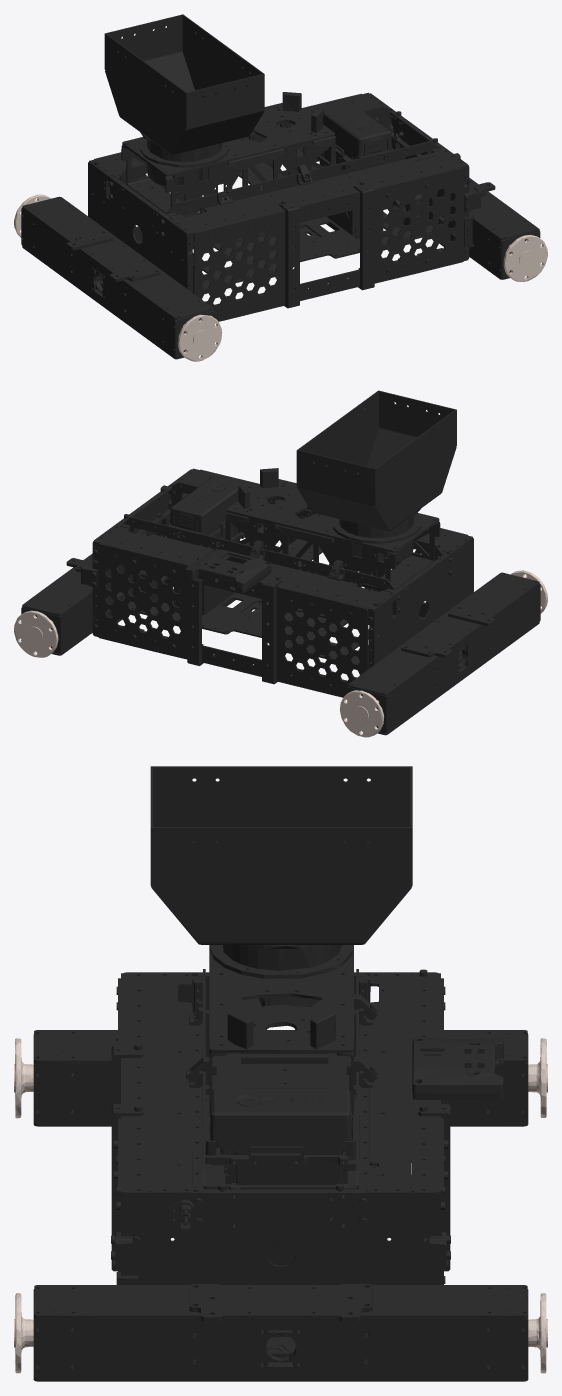
The model's file is chassis_base.dae.
3 views of the same model, one above another, from view 1: azimuth 30°, elevation 25°; view 2: azimuth 150°, elevation 25°; view 3: azimuth 270°, elevation 25° (orthographic). The views are drawn at different scales.
Visible parts, largest first — view 1: chassis; view 2: chassis; view 3: chassis.
Boxes of the visible parts, bbox=[...] form: chassis: bbox=[14, 14, 547, 361]; chassis: bbox=[14, 390, 547, 737]; chassis: bbox=[14, 766, 547, 1381].
Size of the model in its own units: 0.4848 by 0.3672 by 0.2815.
